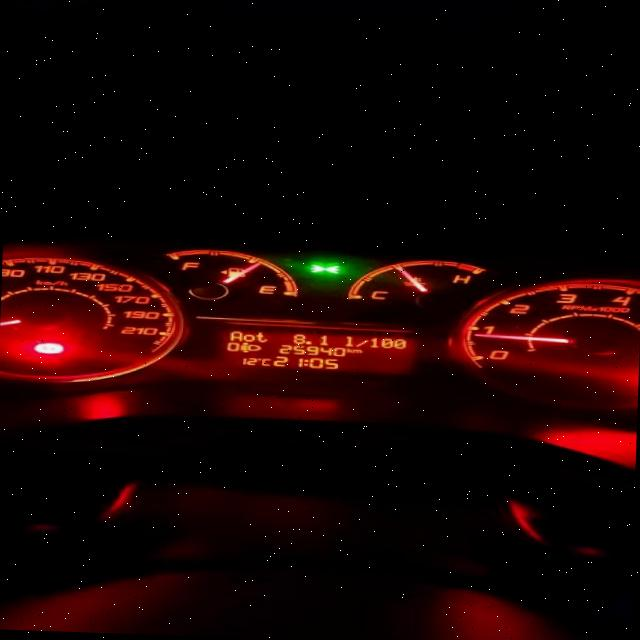odometer: (210, 324, 420, 376)
